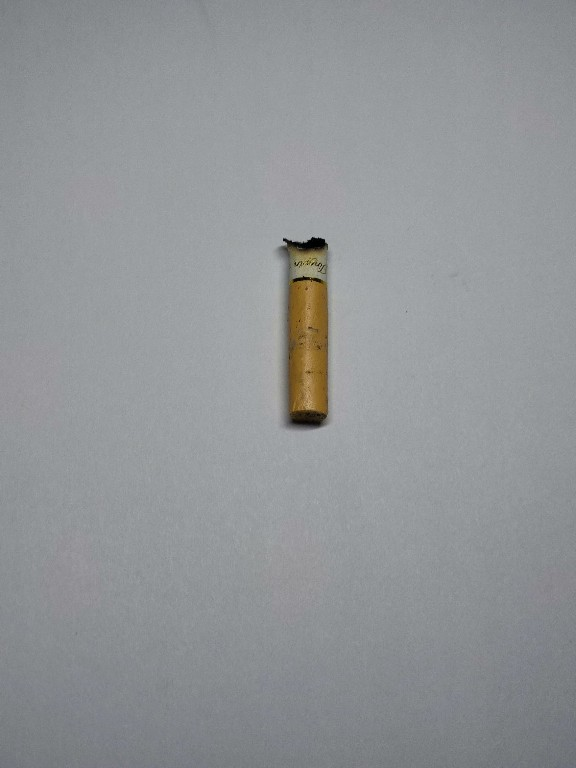cigarette: (277, 232, 337, 431)
